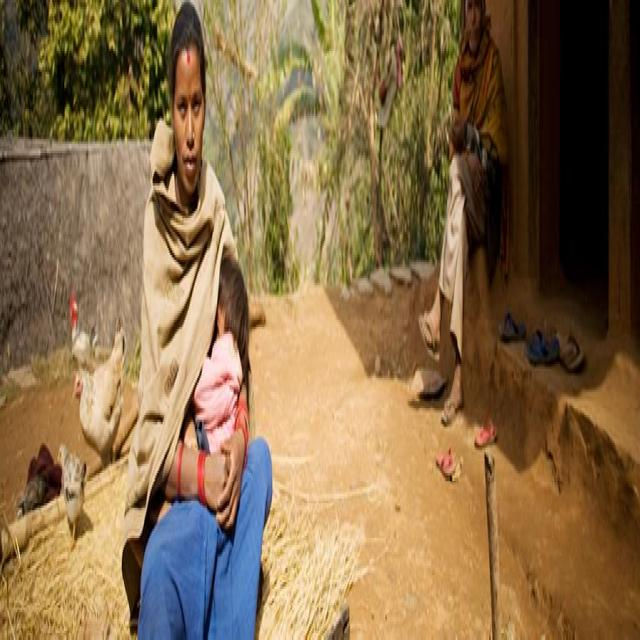Face: (172, 29, 212, 200)
